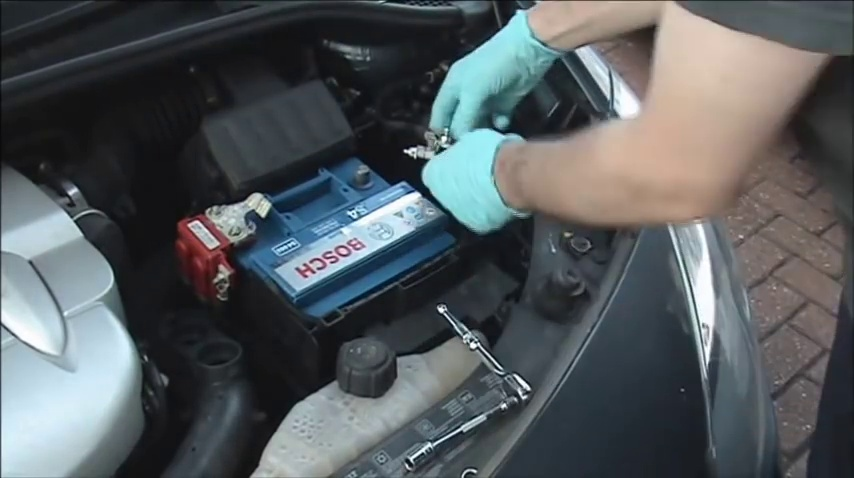battery: (175, 149, 452, 310)
neg_disconnected: (336, 151, 393, 200)
pos_connected: (186, 174, 272, 283)
